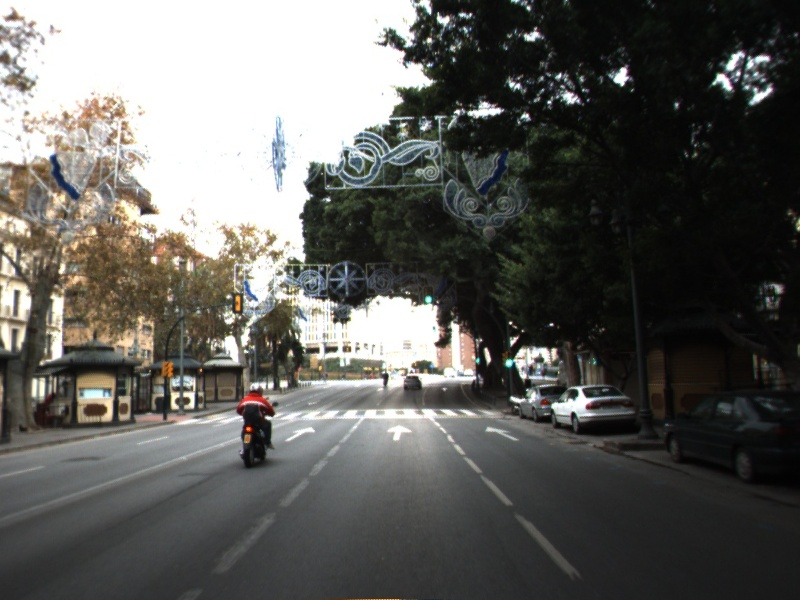STRAIGHT: (483, 425, 522, 443), (282, 424, 317, 443), (385, 423, 415, 442)
